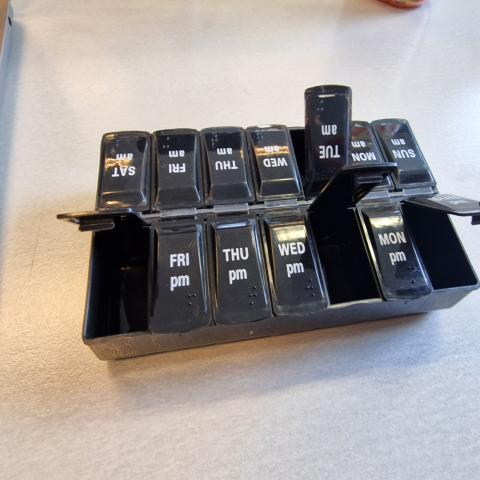Open: (306, 163, 395, 308), (59, 209, 153, 337), (405, 201, 480, 288), (290, 89, 308, 196)
